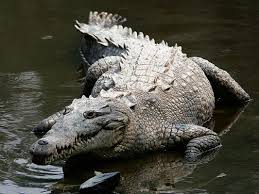Crocodile: (29, 16, 253, 194)
